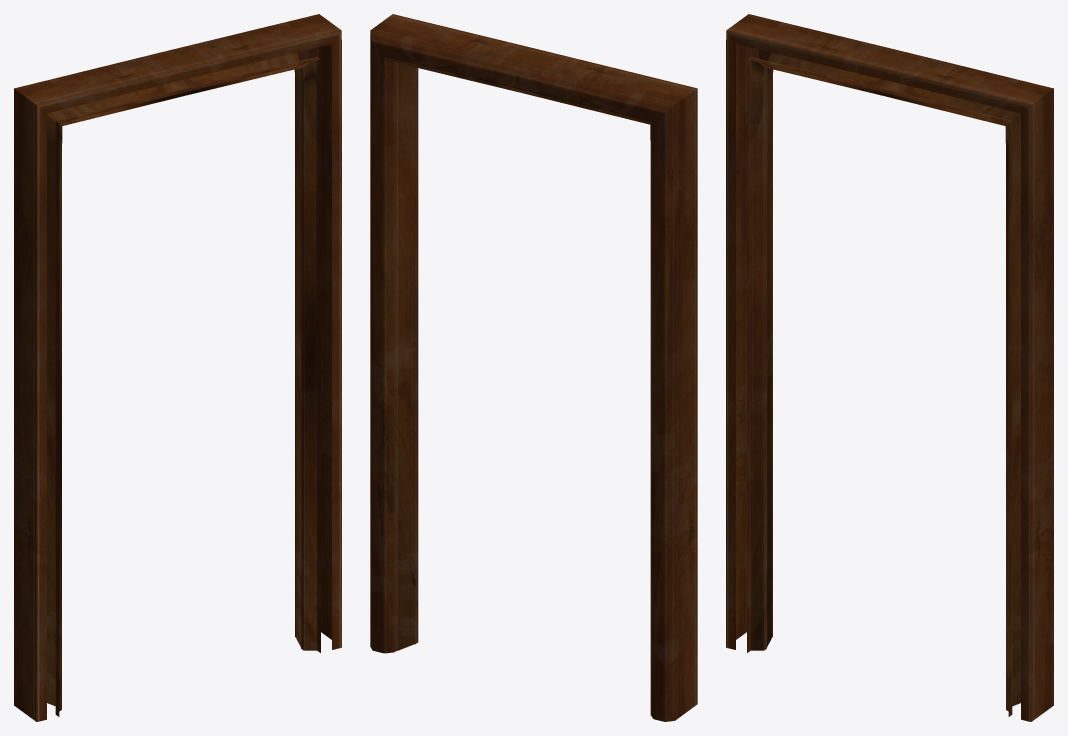
File: Kitchen_GEO_GRP1_Kitchen_95.obj
3 views of the same model, side by side, from view 1: azimuth 30°, elevation 25°; view 2: azimuth 150°, elevation 25°; view 3: azimuth 330°, elevation 25° (orthographic).
Parts seen in each view (by area): view 1: Kitchen_GEO_GRP1_Kitchen_95; view 2: Kitchen_GEO_GRP1_Kitchen_95; view 3: Kitchen_GEO_GRP1_Kitchen_95.
Part boxes in pixels (x1=…): Kitchen_GEO_GRP1_Kitchen_95: x1=14, y1=14, x2=341, y2=721; Kitchen_GEO_GRP1_Kitchen_95: x1=370, y1=14, x2=697, y2=721; Kitchen_GEO_GRP1_Kitchen_95: x1=726, y1=14, x2=1053, y2=721.
Size of the model in its own units: 1.26 by 2.43 by 0.1954.
1 material, 1 textured.
